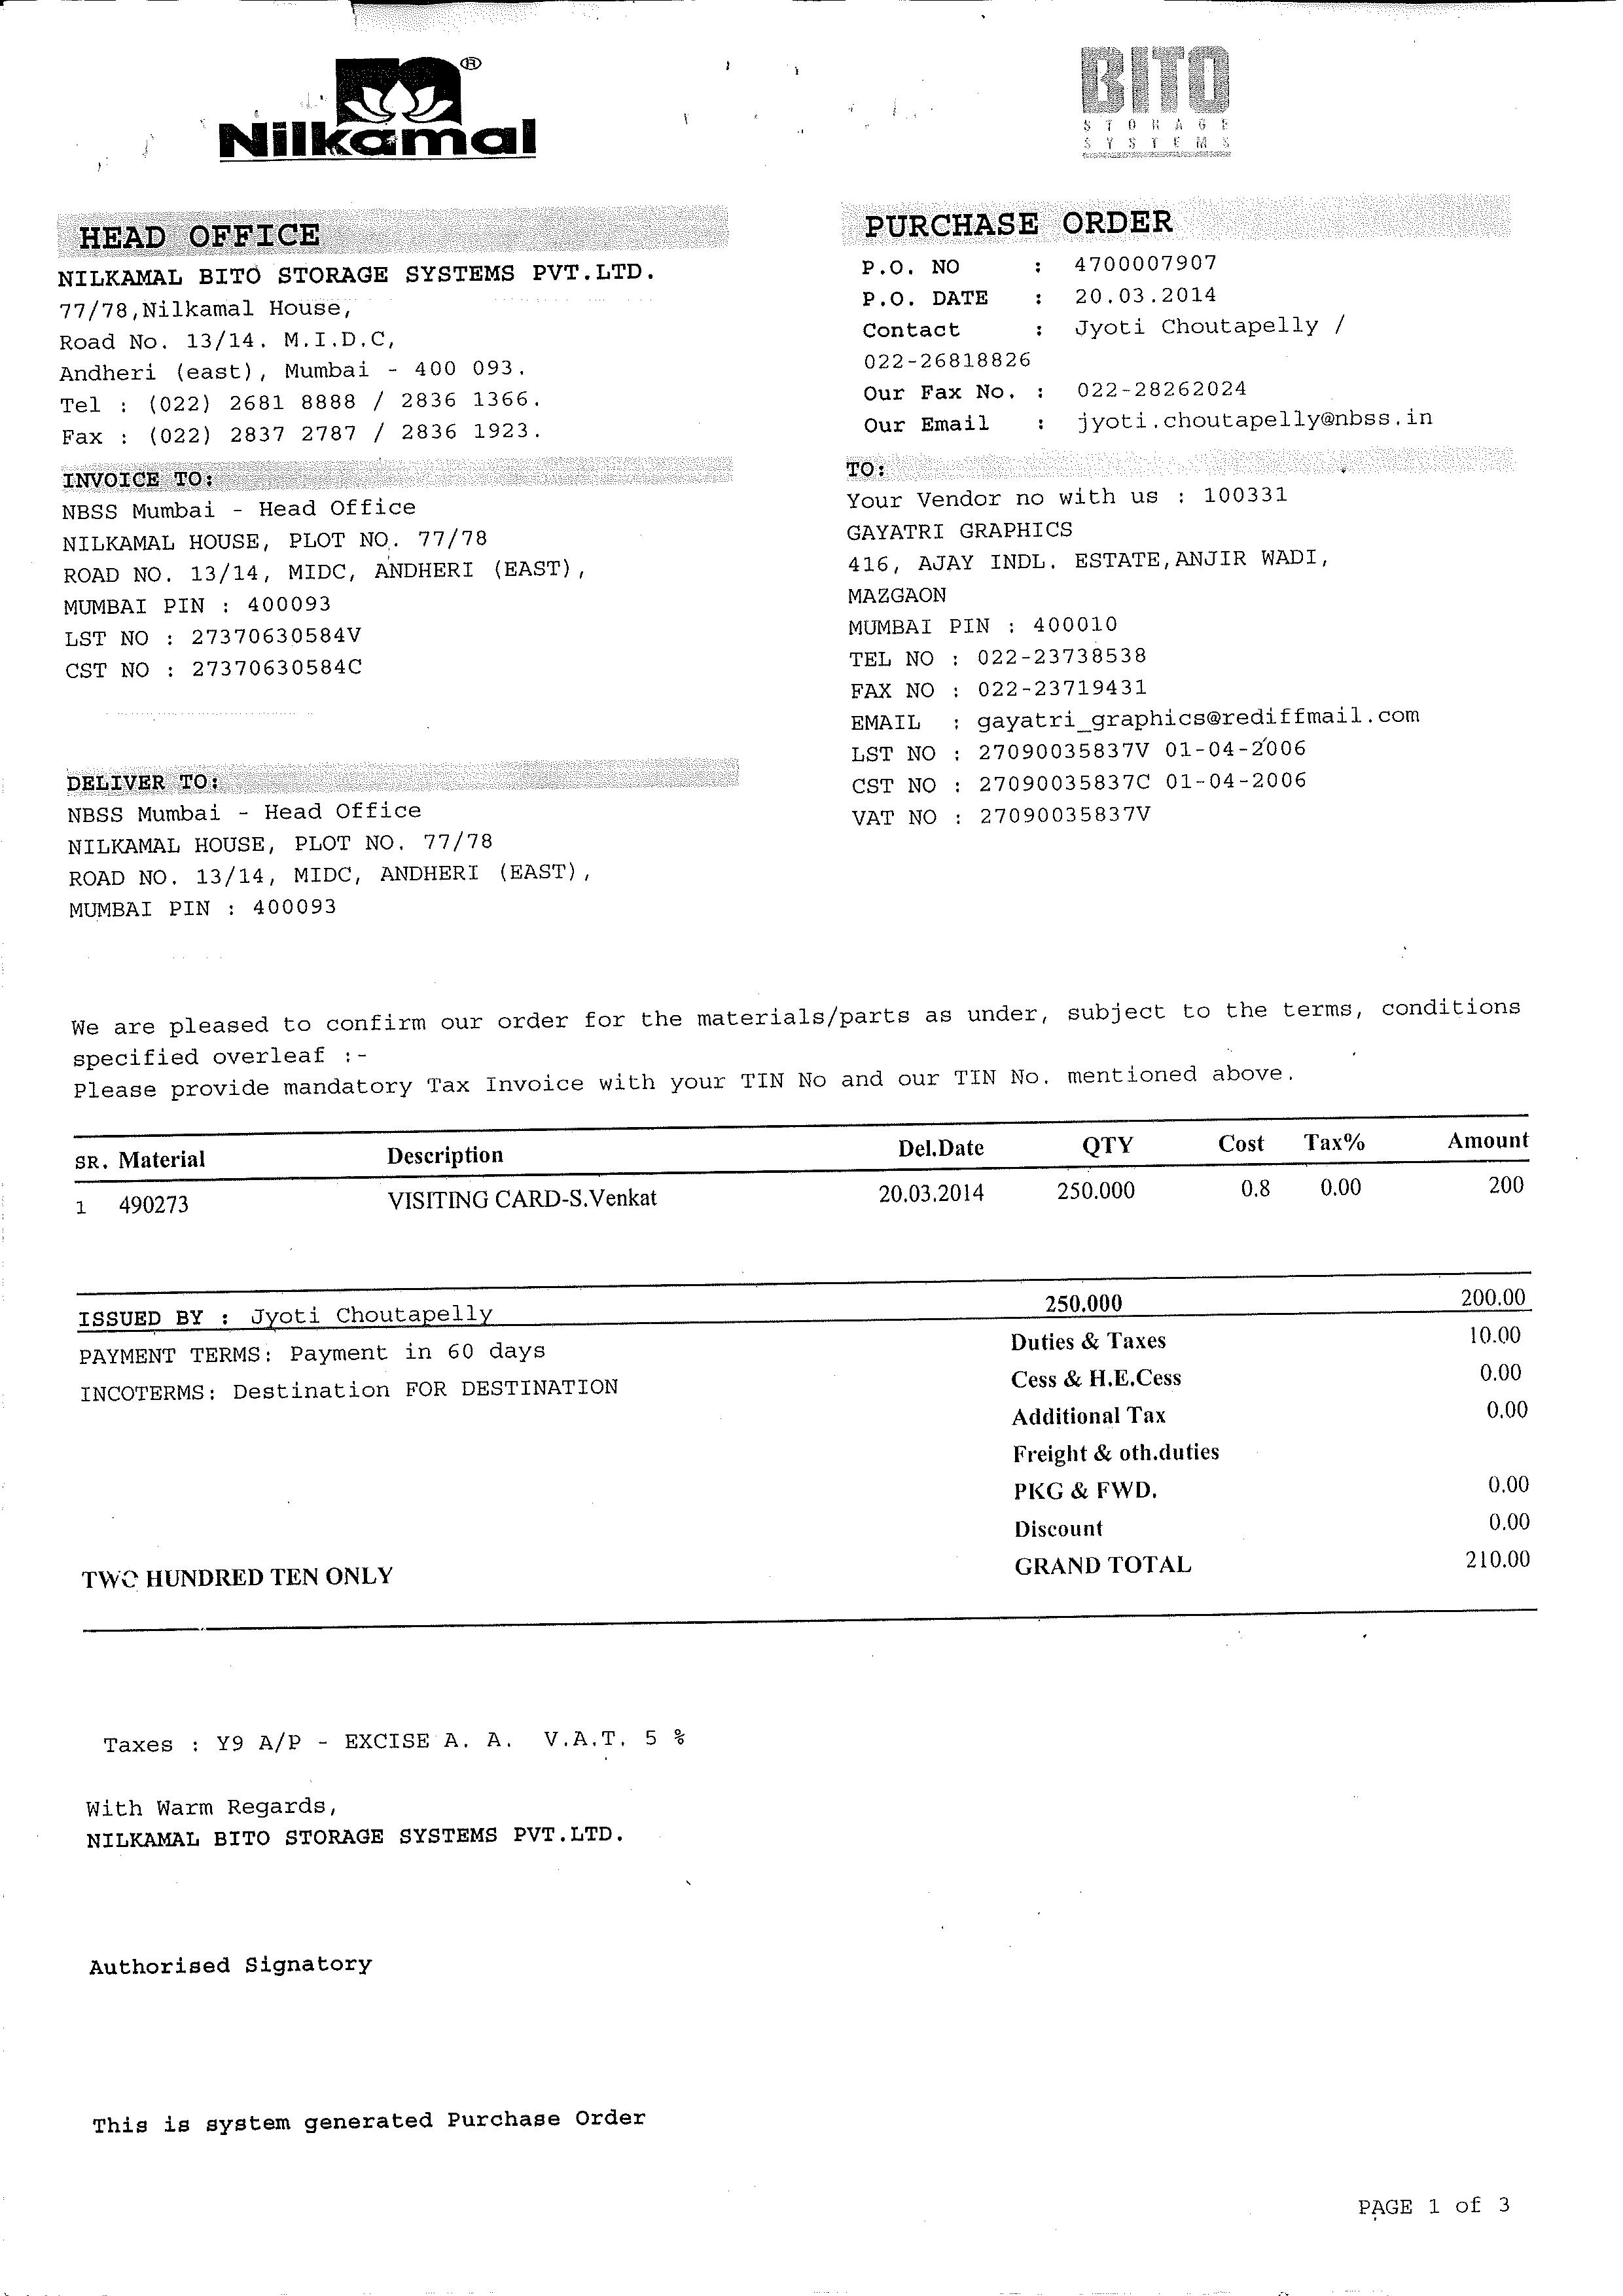B_Paragraph: (843, 455, 1433, 847), (69, 994, 1523, 1107), (54, 258, 660, 451), (61, 467, 590, 687), (852, 249, 1439, 441), (61, 771, 606, 922), (81, 1794, 627, 1855), (88, 2106, 669, 2140), (98, 1727, 701, 1758), (81, 1952, 386, 1985), (1354, 2185, 1514, 2222)
B_SubTitle: (861, 206, 1186, 239), (65, 213, 328, 251)
B_Table: (70, 1112, 1544, 1635)
B_Title: (218, 49, 552, 170)
